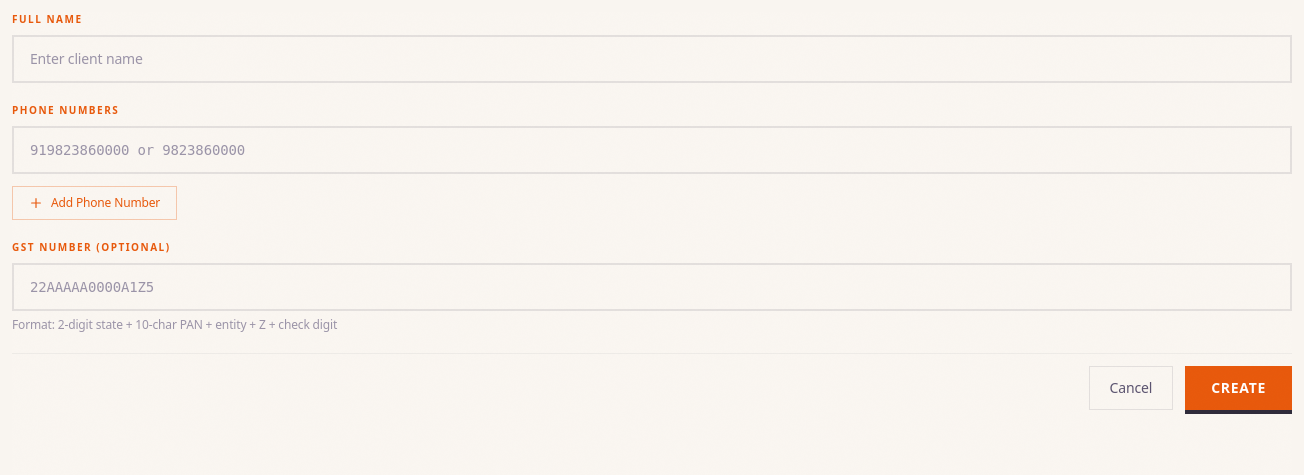
Test: ClientForm › Unit Tests - Form Validation › should display error when name is empty
The width and height of the screenshot is (1304, 475).
Click the button "Create".
click(1239, 388)  # box 1185,366 -> 1292,410
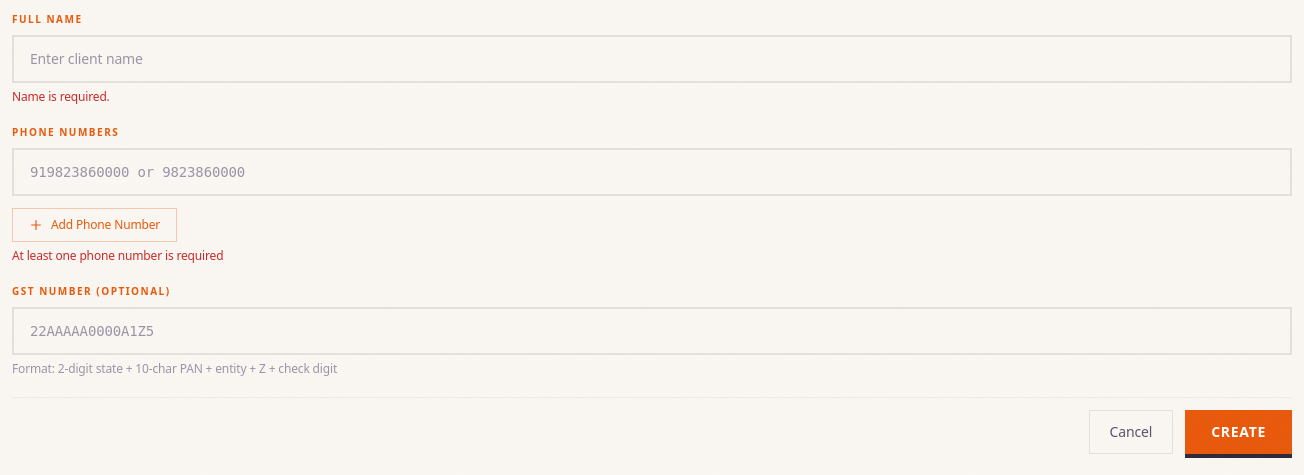
Check: the text "Name is required." is shown, box 12,88 -> 110,105
